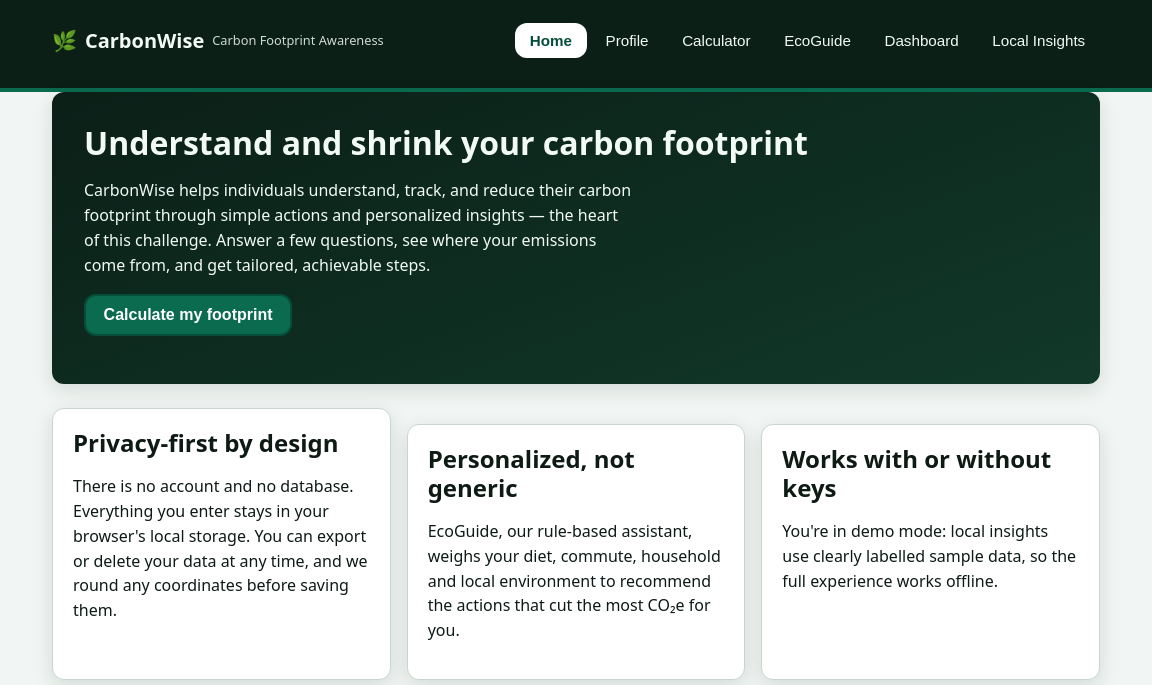
Test: CarbonWiseApp › walks from landing through calculation and tabs
The image size is (1152, 685).
Check: the heading "Understand and shrink your carbon footprint" is shown, box [84,121,808,164]
Click the button "Calculate my footprint".
click(188, 315)  # box [84,294,292,336]
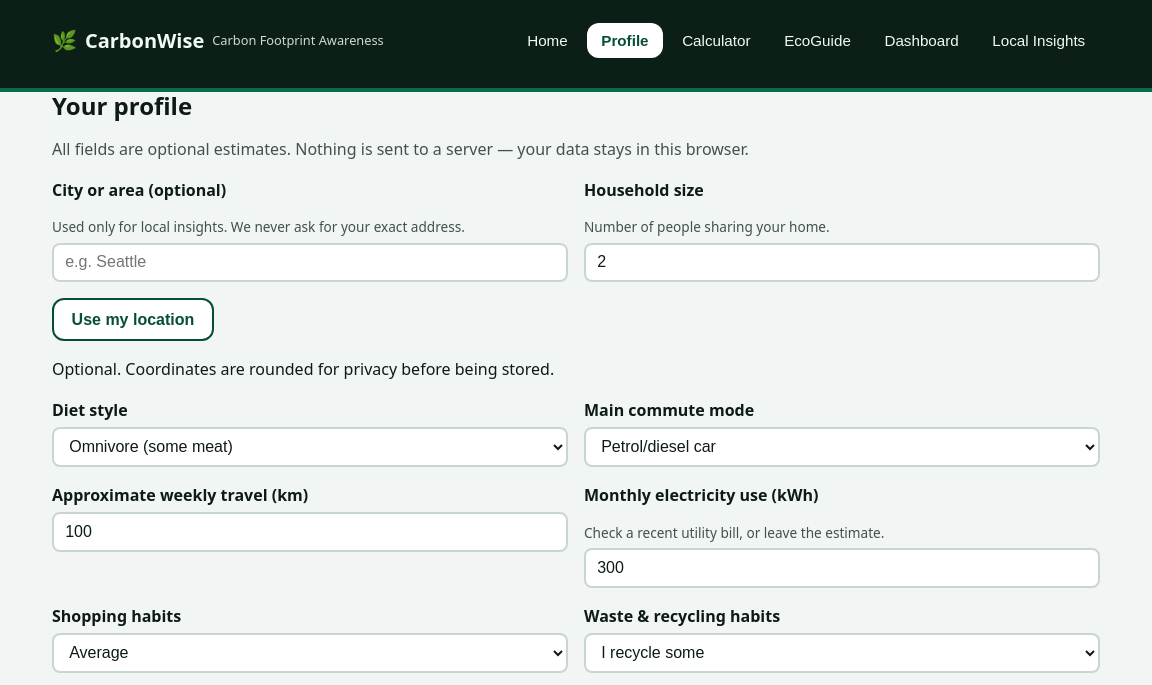
Type "Seattle" into the field labelled "City or area (optional)".
click(310, 262); type("Seattle")  # box [52,243,568,282]
(page scrolled)
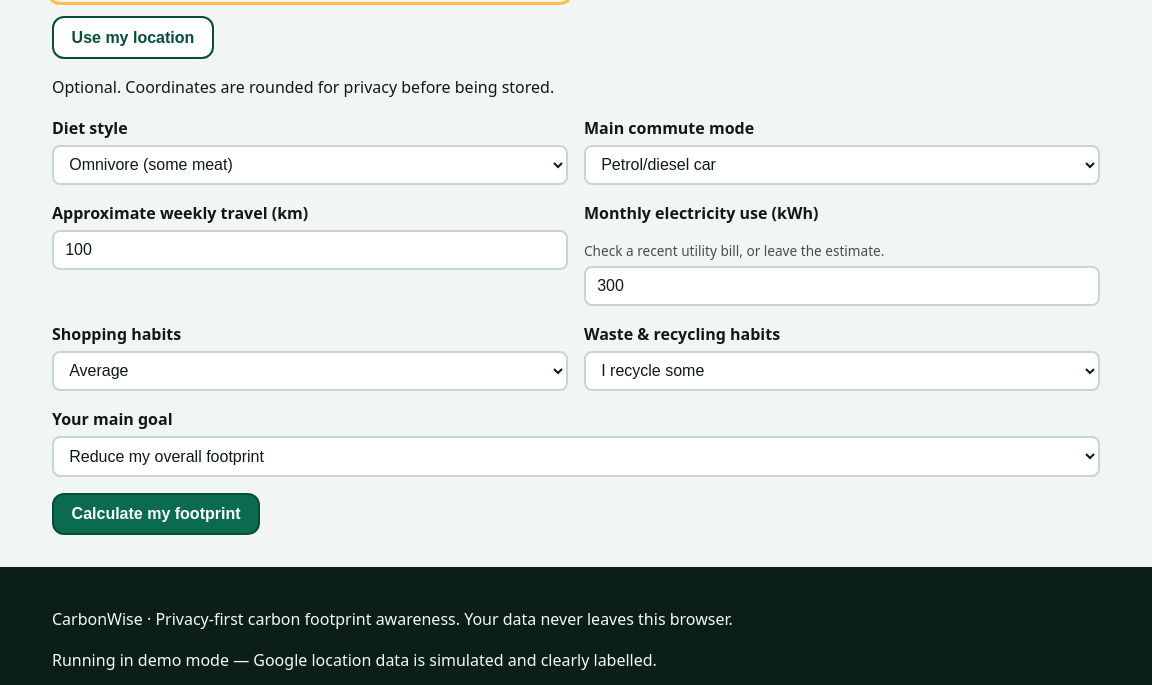
Click the button "Calculate my footprint".
click(156, 514)  # box [52,493,260,535]
(page scrolled)
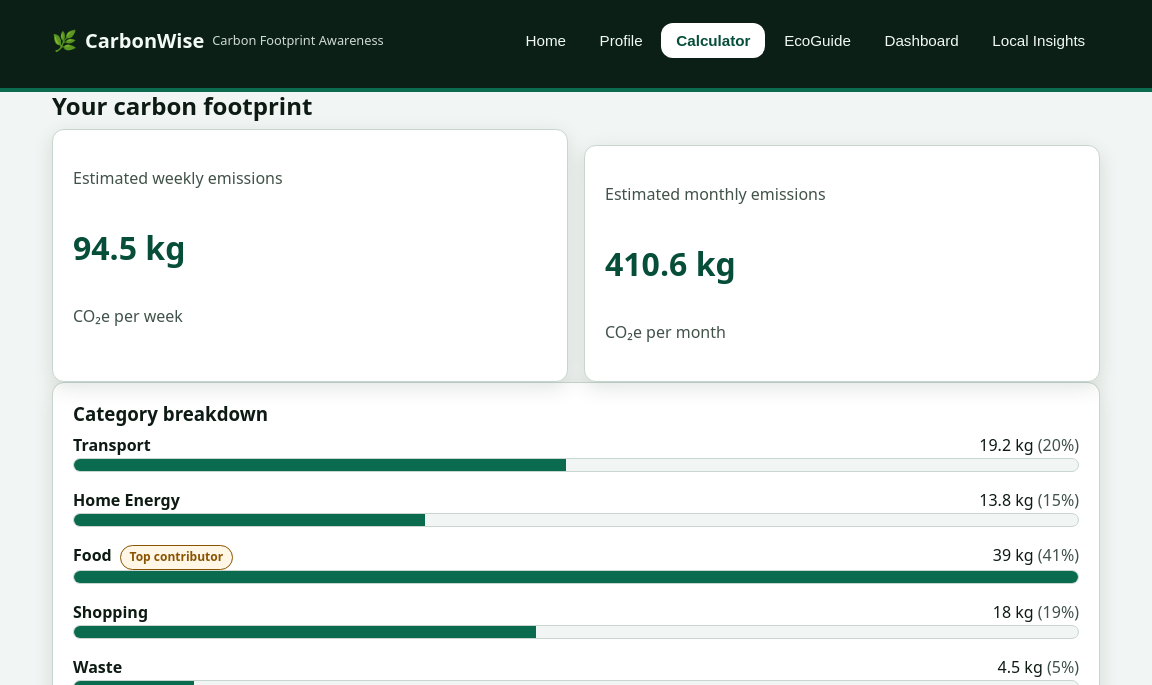
Check: the heading "Your carbon footprint" is shown, box [52,89,312,122]
Click the button "EcoGuide".
click(817, 40)  # box [769,23,866,58]
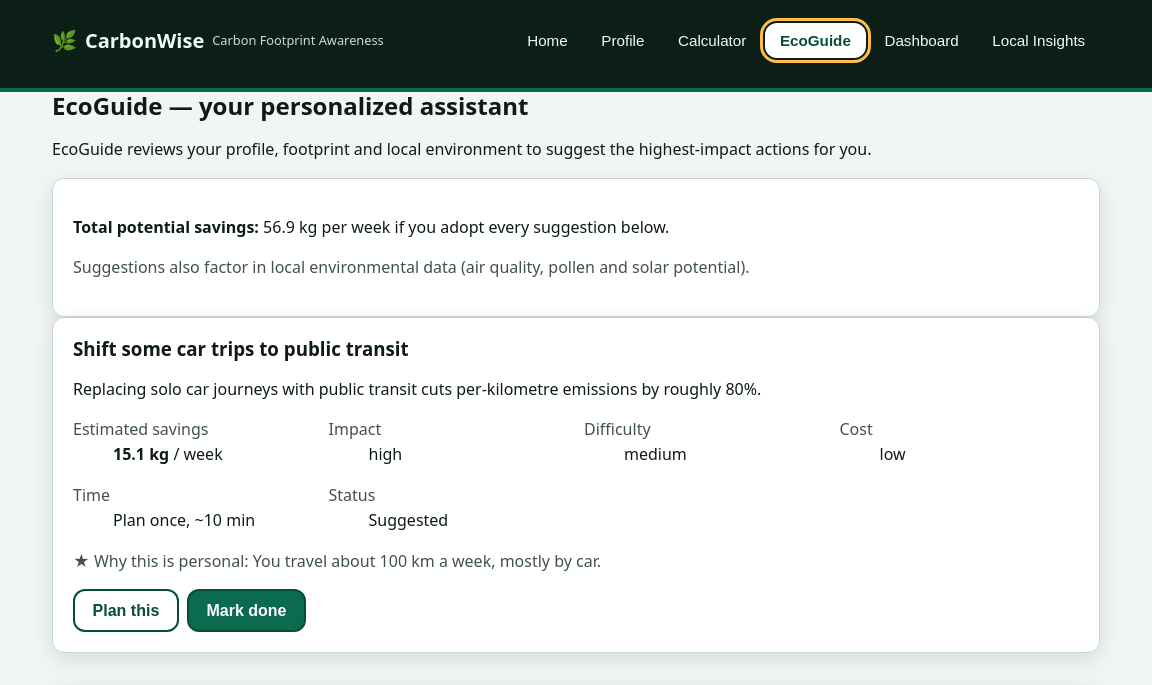
Check: the heading "EcoGuide — your personalized assistant" is shown, box [52,89,528,122]
Click the button "Dashboard".
click(922, 40)  # box [870,23,974,58]
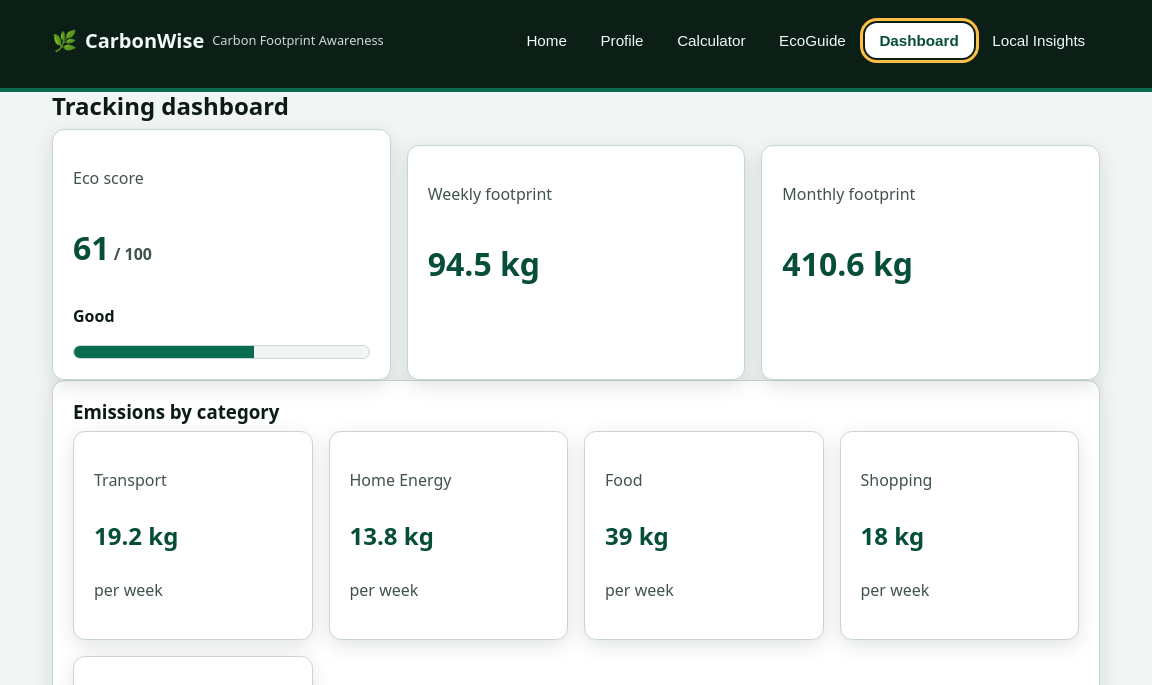
Check: the heading "Tracking dashboard" is shown, box [52,89,289,122]
Click the button "Local Insights".
click(1039, 40)  # box [978,23,1100,58]
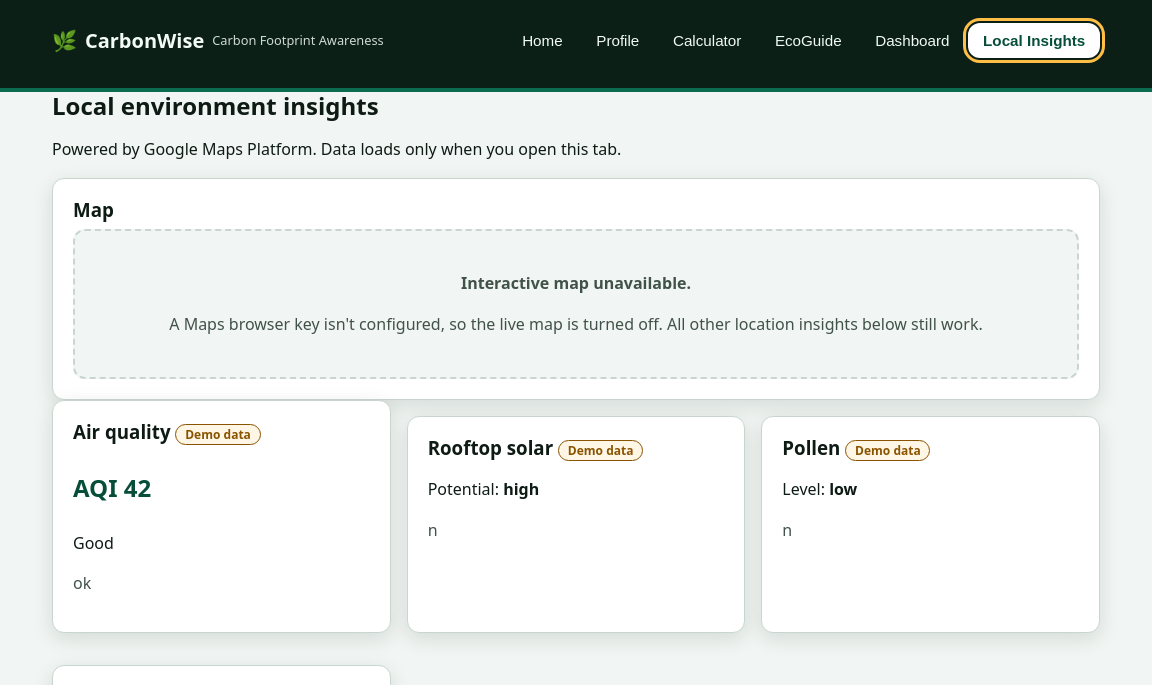
Check: the text "AQI 42" is shown, box [73,471,151,504]
